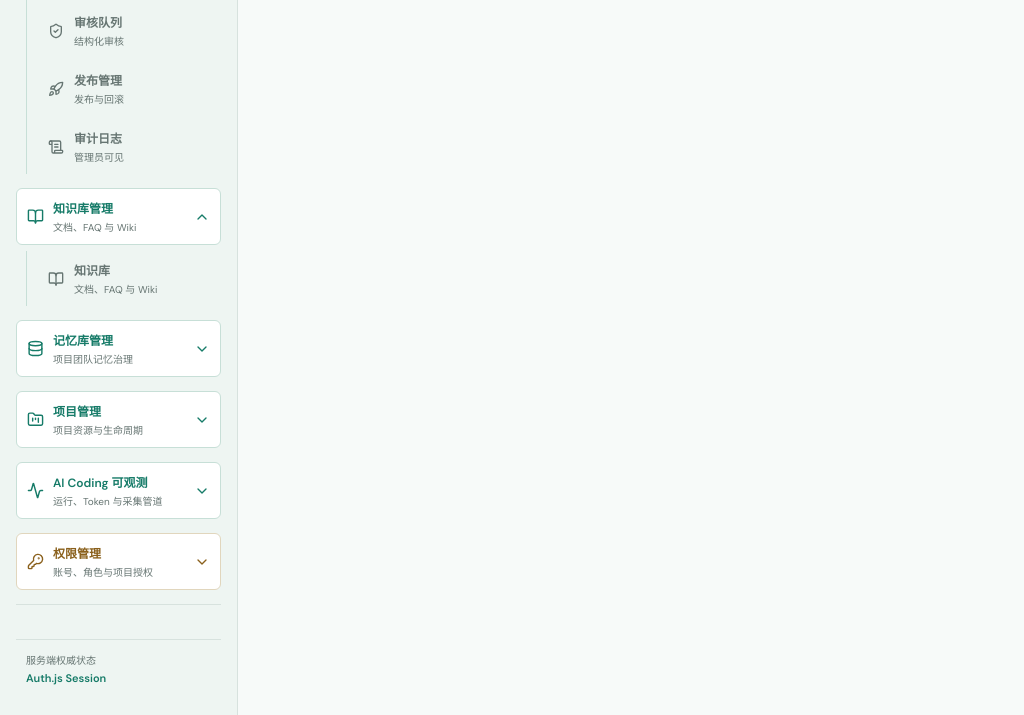
Test: admin telemetry console › renders a 503 as service error, never as an empty list
(page scrolled)
What coordinates should you click on to do the following:
click the button "AI Coding 可观测 运行、Token 与采集管道"
I would click on:
 (118, 490)
Its box is [16, 462, 221, 519].
(page scrolled)
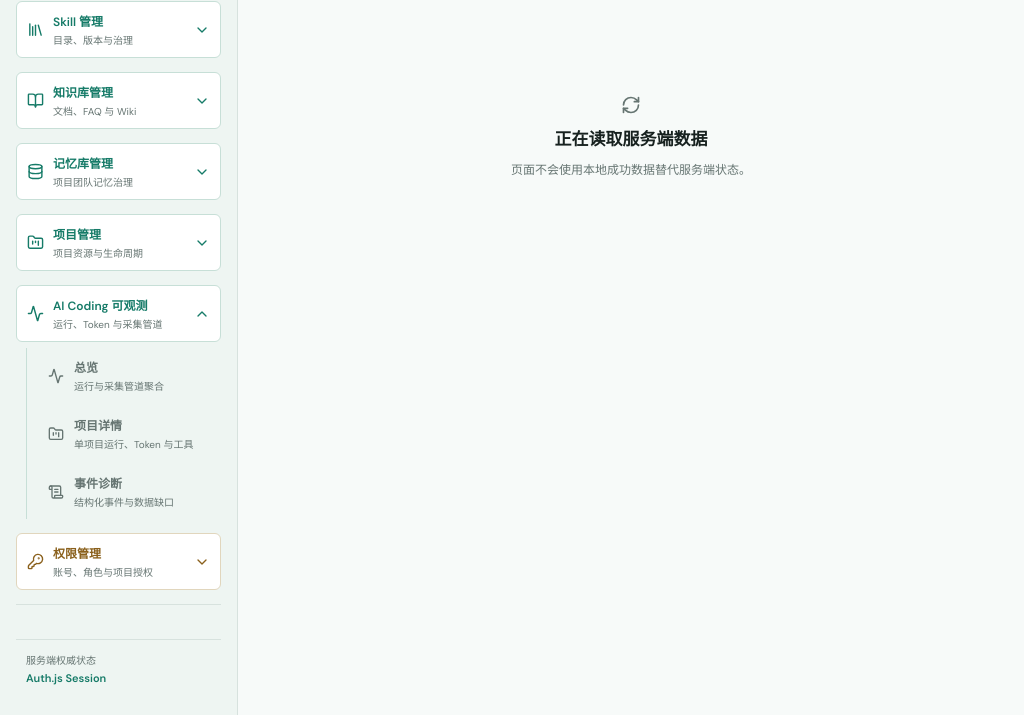
What coordinates should you click on to do the following:
click the button named "总览运行与采集管道聚合"
I would click on:
 (129, 376)
Its box is [37, 348, 221, 403].
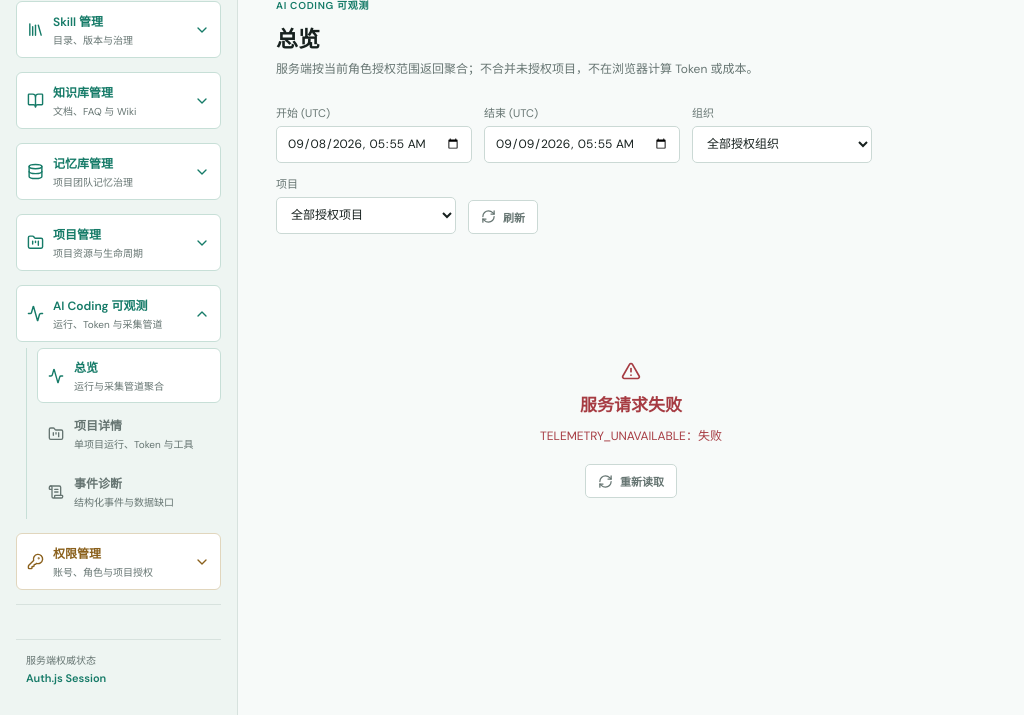
Check: the heading "服务请求失败" is shown, box [580, 391, 682, 416]
